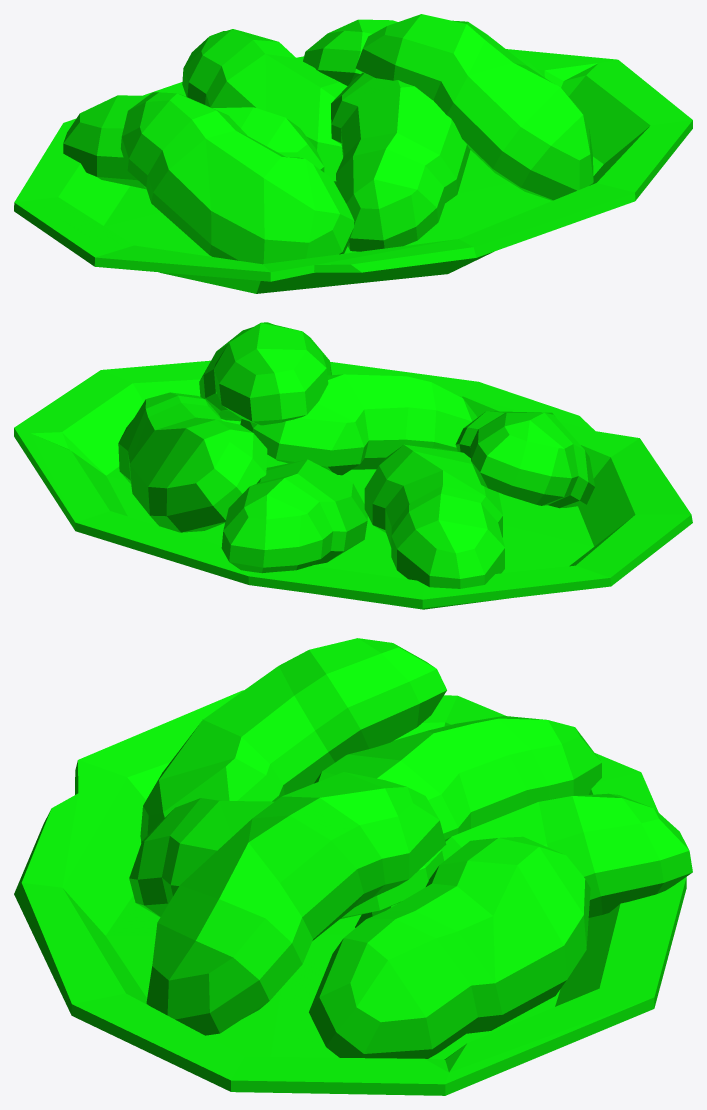
Rendered from SM_Kidneys_Fantasy.fbx.
The picture shows the model from 3 angles, top to bottom: view 1: azimuth 30°, elevation 25°; view 2: azimuth 150°, elevation 25°; view 3: azimuth 270°, elevation 25°; orthographic projection. The views are drawn at different scales.
Visible parts, largest first — view 1: kidneys-fantasy; view 2: kidneys-fantasy; view 3: kidneys-fantasy.
Part boxes in pixels (left/top/right/bottom): kidneys-fantasy: left=14, top=14, right=692, bottom=293; kidneys-fantasy: left=14, top=322, right=692, bottom=609; kidneys-fantasy: left=14, top=638, right=692, bottom=1095.
Size of the model in its own units: 0.4731 by 0.1223 by 0.3488.
